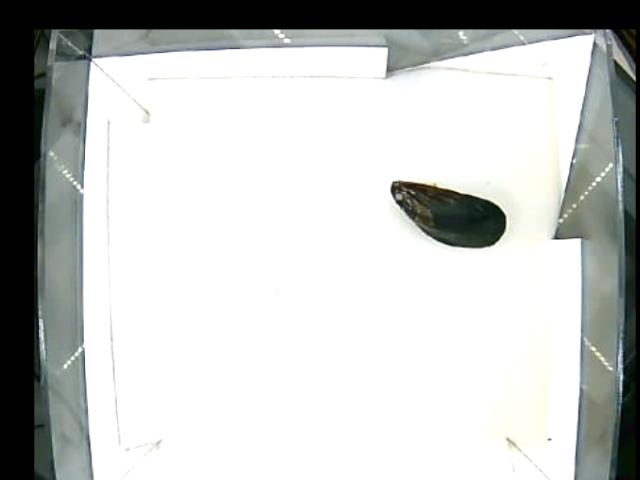Shell: (387, 178, 506, 249)
